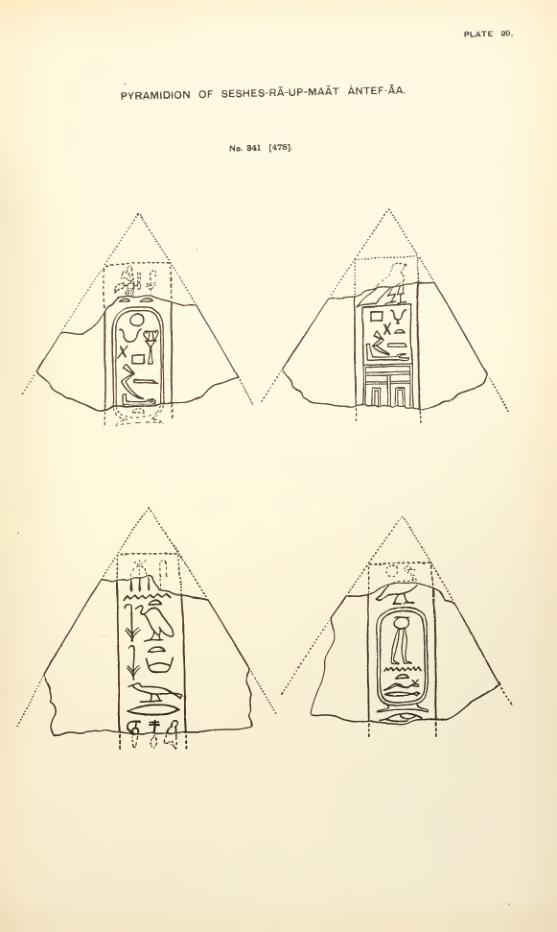circle: (110, 306, 168, 428), (374, 604, 431, 716)
